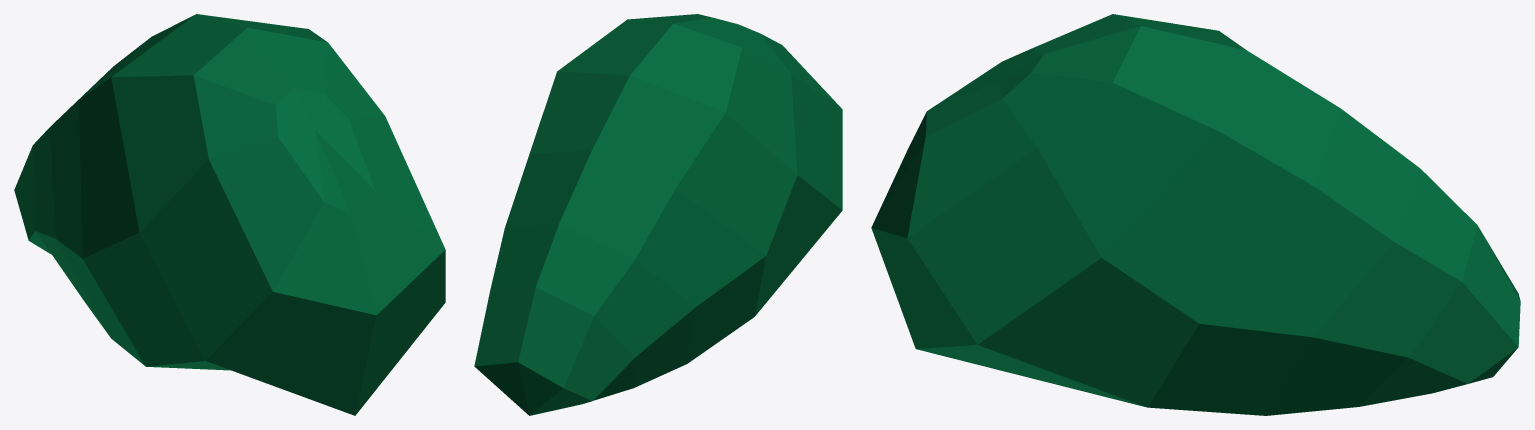
Rendered from Bush3.fbx.
3 views of the same model, side by side, from view 1: azimuth 30°, elevation 25°; view 2: azimuth 150°, elevation 25°; view 3: azimuth 270°, elevation 25° (orthographic). The views are drawn at different scales.
Visible parts, largest first — view 1: Sphere.002; view 2: Sphere.002; view 3: Sphere.002.
Part boxes in pixels (x1,y1,x2,y2): Sphere.002: (14,14,445,415); Sphere.002: (474,14,842,415); Sphere.002: (871,14,1520,415).
Size of the model in its own units: 73.93 by 86.92 by 146.
